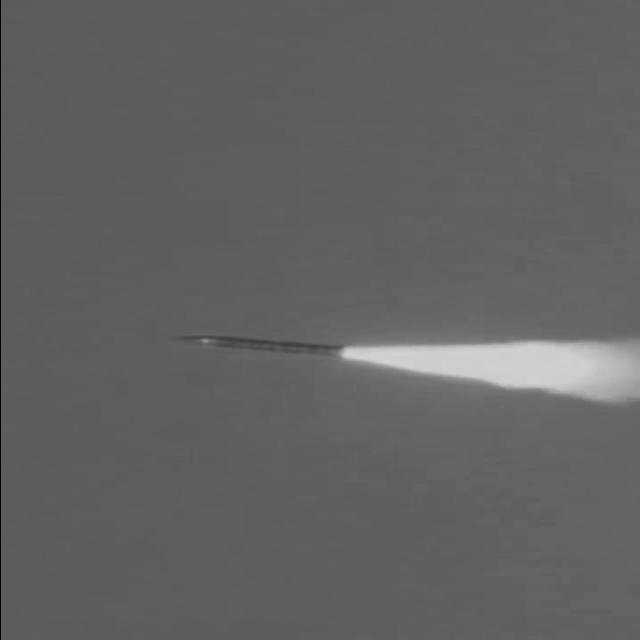Missile: (160, 334, 356, 364)
